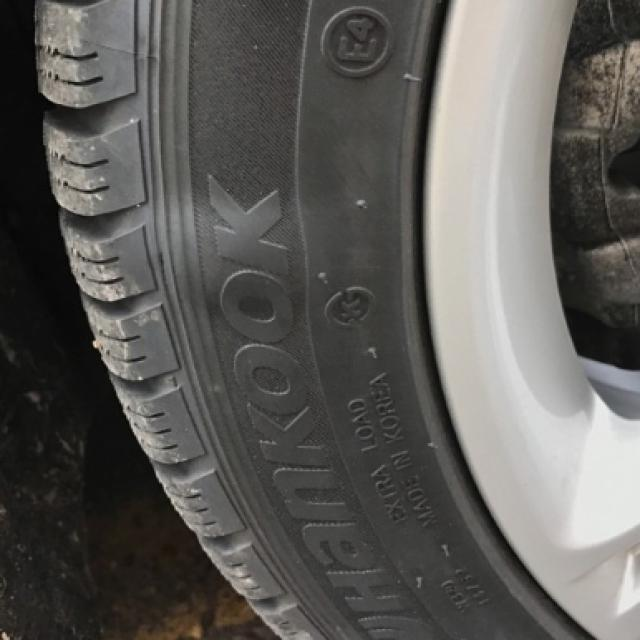Bulge: (122, 192, 376, 322)
